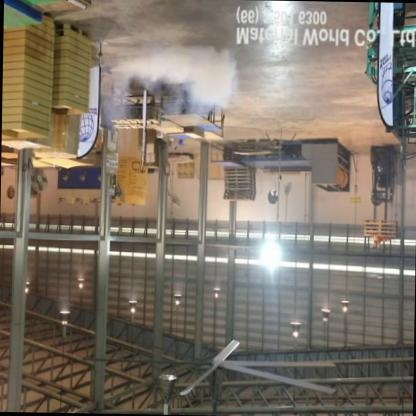smoke: (97, 42, 241, 146)
